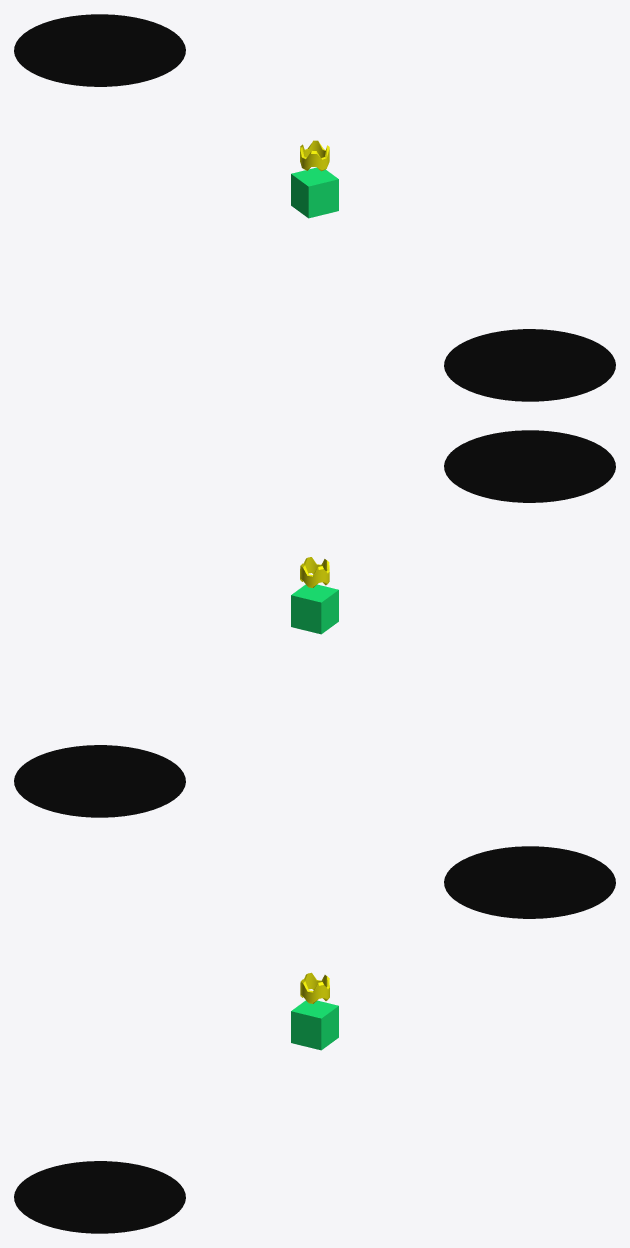
The model's file is MainMenuAnim.fbx.
3 views of the same model, one above another, from view 1: azimuth 30°, elevation 25°; view 2: azimuth 150°, elevation 25°; view 3: azimuth 330°, elevation 25° (orthographic).
Parts seen in each view (by area): view 1: Disc, Disc_2, Cube, Tube; view 2: Disc, Disc_2, Cube, Tube; view 3: Disc, Disc_2, Cube, Tube.
Boxes of the visible parts, box(x1,y1,x2,y2) form: Disc: box(14, 14, 185, 86); Disc_2: box(444, 329, 615, 401); Cube: box(291, 167, 338, 218); Tube: box(300, 140, 329, 171); Disc: box(14, 745, 185, 817); Disc_2: box(444, 430, 615, 502); Cube: box(291, 584, 338, 634); Tube: box(300, 557, 329, 587); Disc: box(444, 846, 615, 918); Disc_2: box(14, 1161, 185, 1233); Cube: box(291, 1000, 338, 1050); Tube: box(300, 972, 329, 1003).
Bounding box in the file's own units: 200 × 80.19 × 1200.
